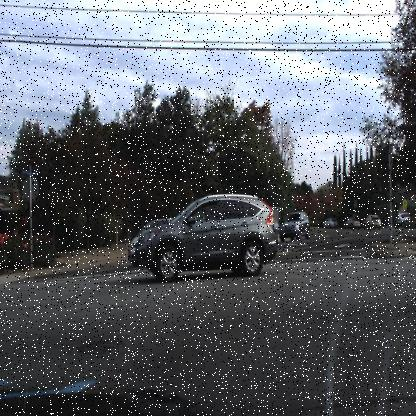car: (135, 190, 277, 284), (126, 214, 170, 271), (278, 205, 312, 243), (393, 205, 410, 231), (344, 214, 362, 231), (363, 212, 381, 228), (322, 215, 338, 230)
